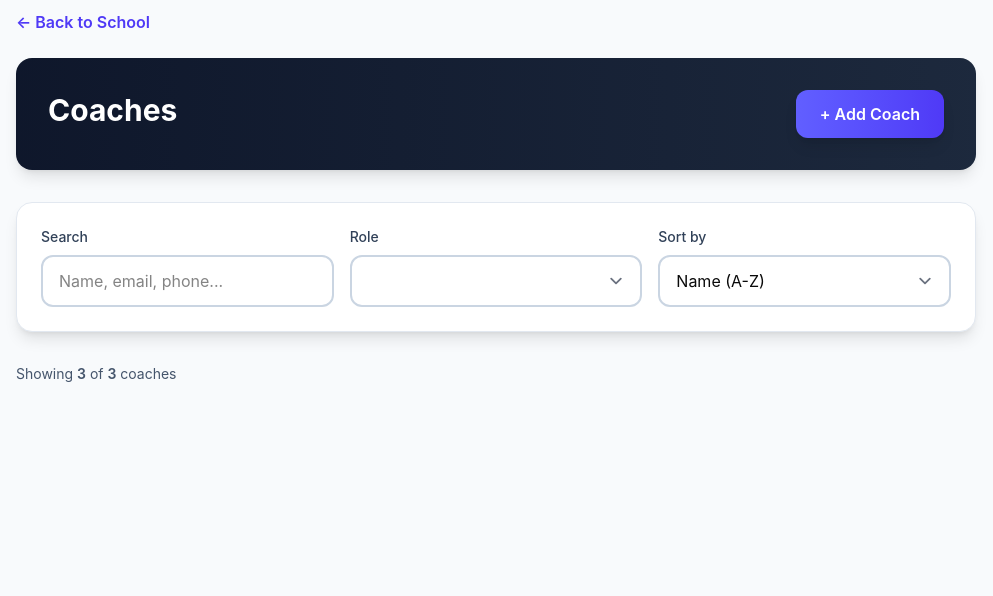
pages/schools/[id]/coaches.vue › Search Filtering › should show no results message when search matches nothing
The width and height of the screenshot is (993, 596).
In the field with id "search": point(187, 281) [41,255,334,307], type "NonExistentCoach"
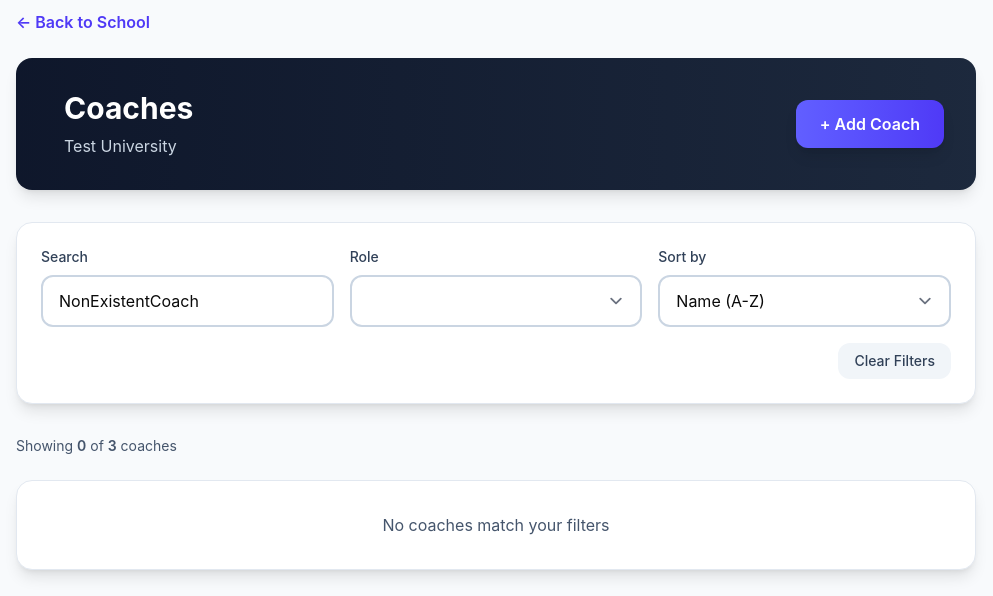
Expected: the text "No coaches match your filters" is shown, [382,515,610,535]
